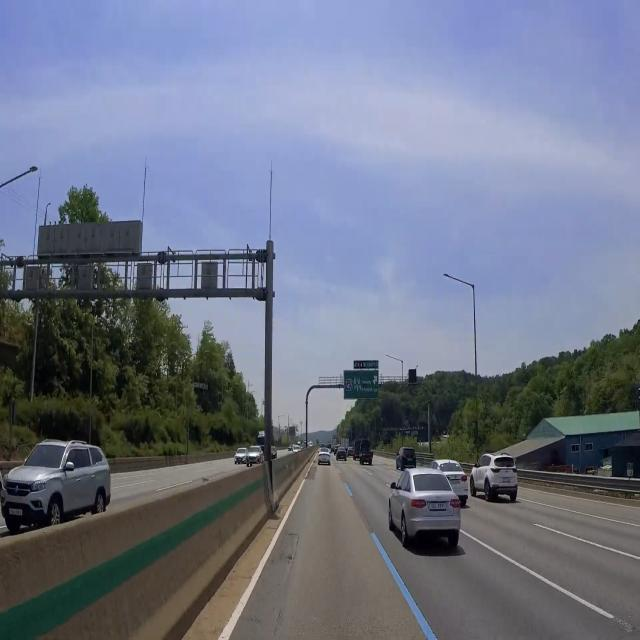car: (6, 499, 26, 526), (428, 496, 449, 518), (499, 475, 517, 487), (449, 477, 462, 488), (406, 457, 416, 466), (363, 455, 372, 463), (321, 456, 329, 464), (339, 455, 346, 460)
